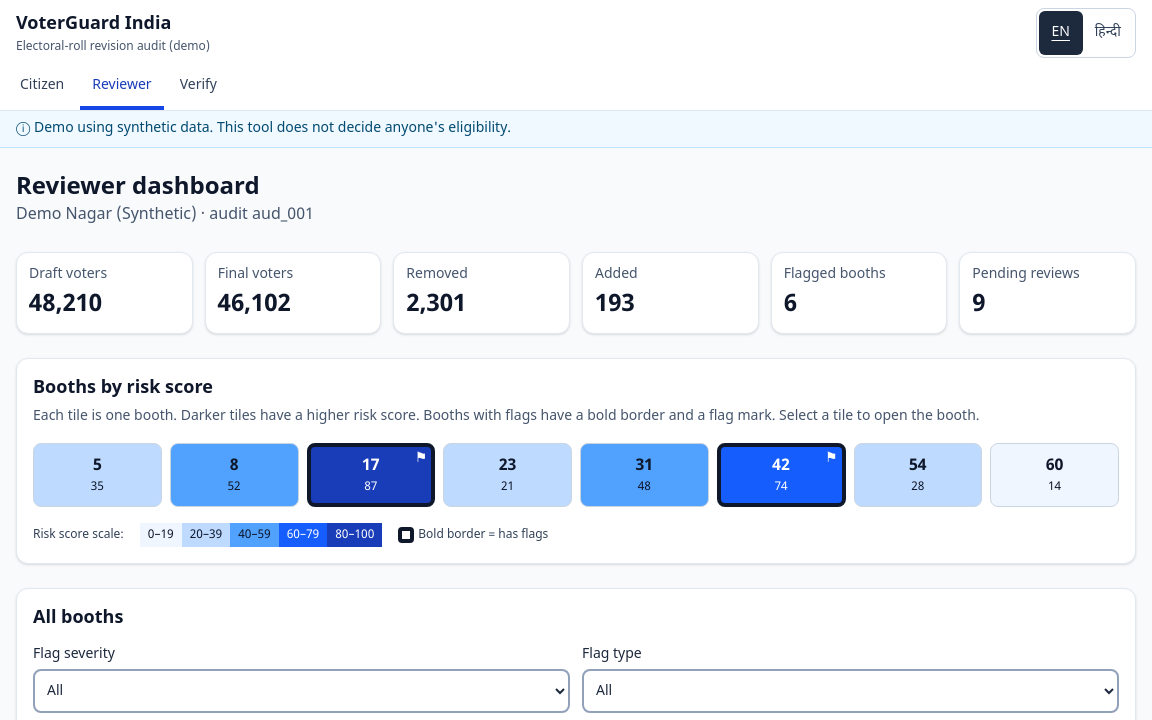
it: Heatmap › navigates to the booth detail page when a tile is activated
Step 1. Click the link named "Booth 17, risk score 87" → (371, 475), box [306,443,435,507]
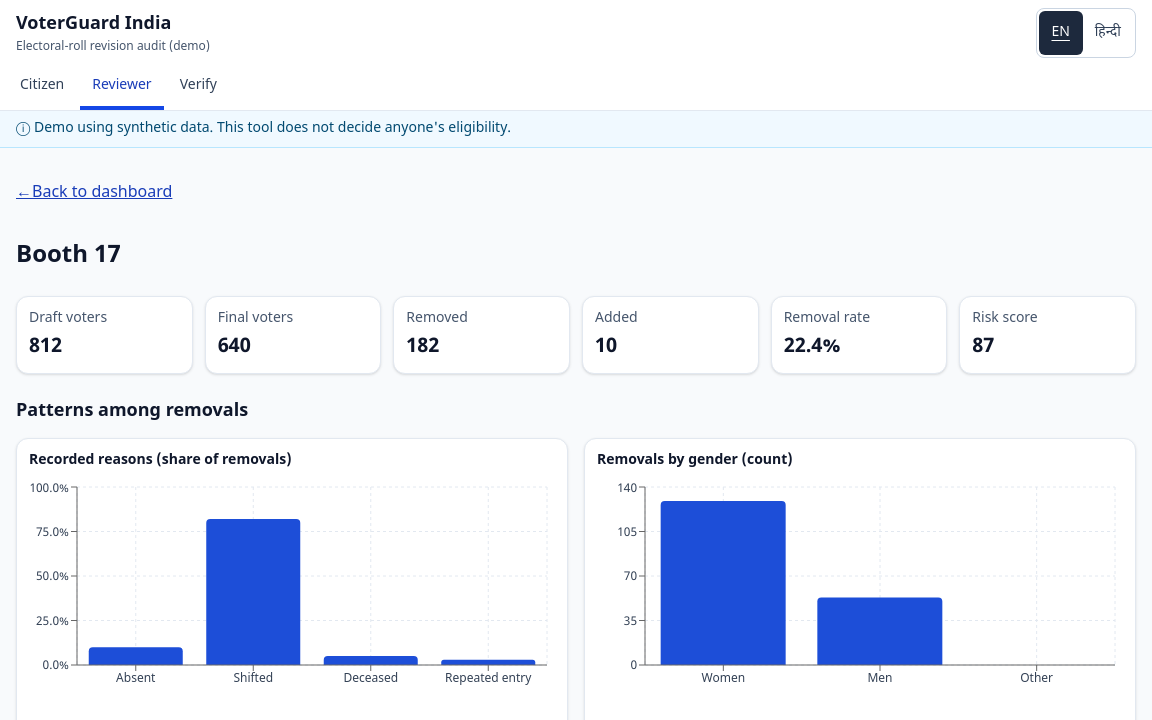
Check: the heading "Booth 17" is shown, box [16,240,121,272]
